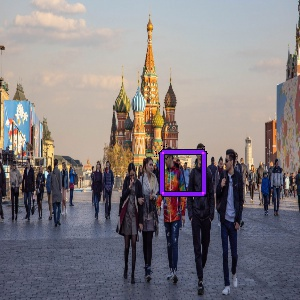square: (157, 148, 207, 197)
